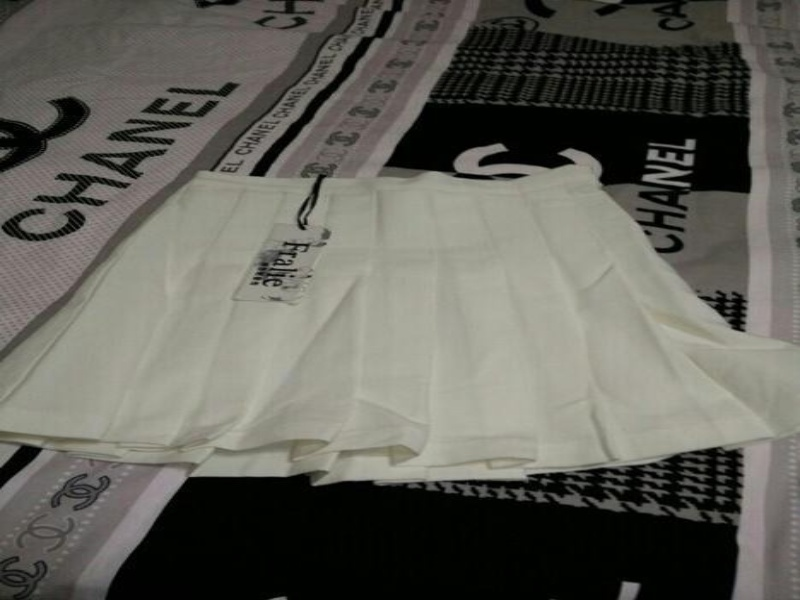skirt: (2, 164, 798, 489)
